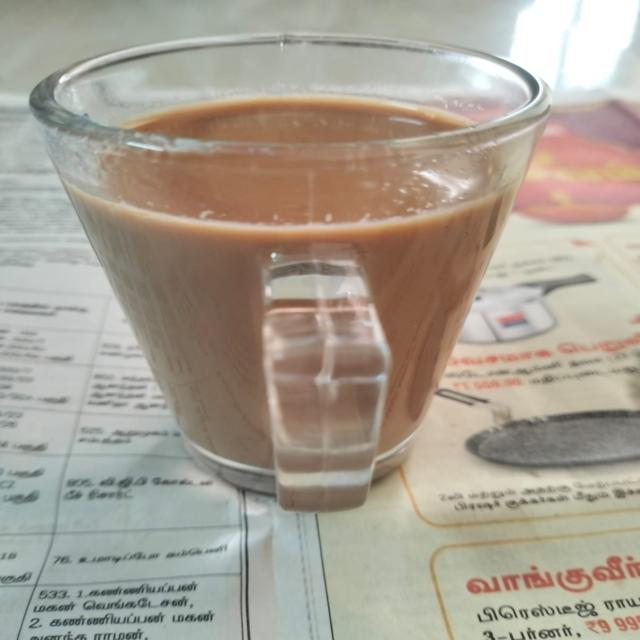glass-VX4N: (24, 31, 554, 518)
